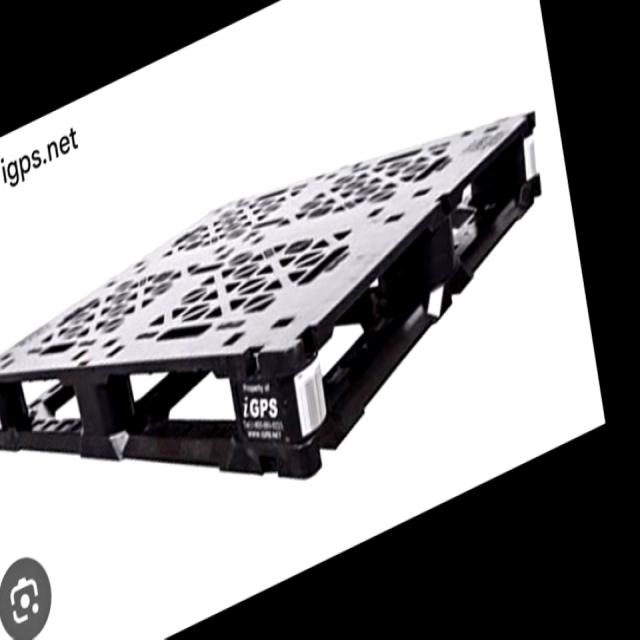igps: (0, 97, 549, 509)
